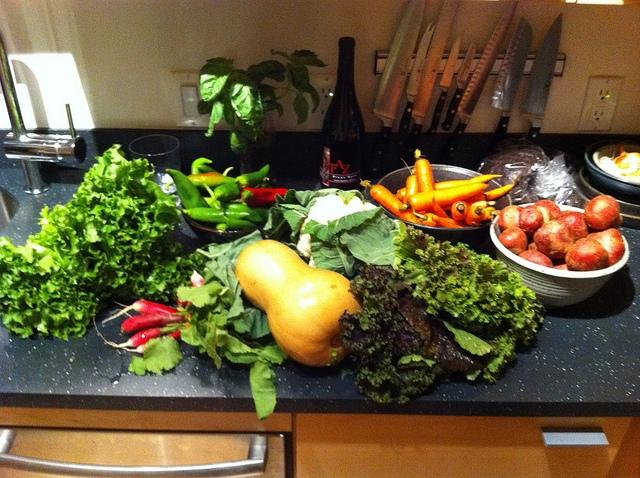carrot: (397, 174, 502, 204), (397, 182, 489, 212), (360, 180, 422, 224), (412, 208, 469, 227), (415, 159, 435, 193), (484, 182, 516, 202), (441, 200, 495, 210), (465, 205, 486, 226), (404, 174, 418, 204), (432, 215, 464, 228), (451, 200, 470, 220), (432, 197, 449, 218), (460, 191, 487, 203), (482, 206, 500, 220)
